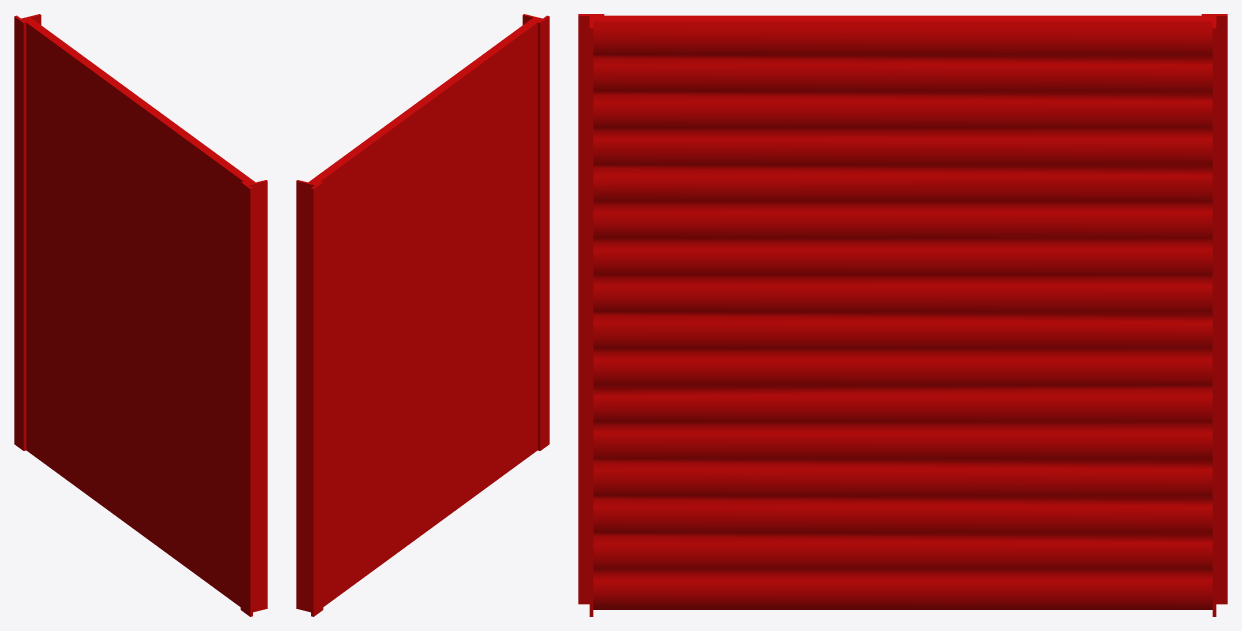
3 renders of one model, left to right at view 1: azimuth 30°, elevation 25°; view 2: azimuth 150°, elevation 25°; view 3: azimuth 270°, elevation 25°, orthographic. The views are drawn at different scales.
Visible parts, largest first — view 1: Mesh; view 2: Mesh; view 3: Mesh.
Part boxes in pixels (x1,y1,x2,y2): Mesh: (14,14,267,616); Mesh: (296,14,549,616); Mesh: (578,14,1227,616).
Size of the model in its own units: 0.2112 by 4 by 4.
